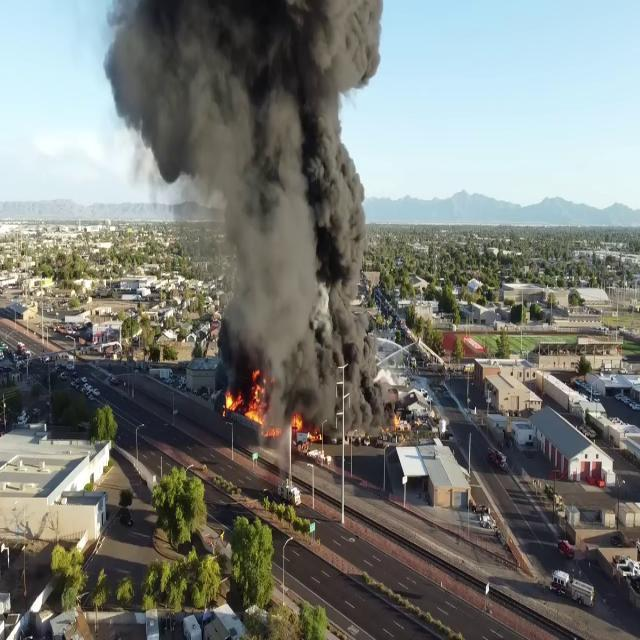Fire: (222, 362, 276, 438)
Smoke: (96, 1, 398, 434)
